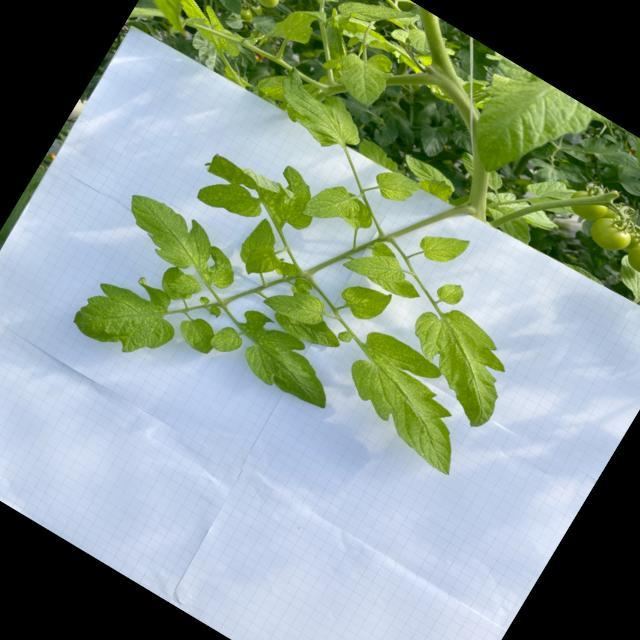Tomato target spot leaf: (446, 56, 614, 216), (326, 324, 494, 476), (384, 294, 530, 434), (205, 297, 352, 418), (108, 184, 252, 298), (196, 121, 335, 239), (68, 256, 194, 376), (261, 64, 377, 164), (324, 36, 401, 111), (167, 0, 255, 60), (192, 168, 268, 232), (269, 296, 346, 359), (260, 273, 334, 336), (341, 235, 412, 298), (300, 174, 366, 239), (334, 0, 419, 50), (267, 0, 331, 57), (334, 271, 395, 330), (413, 219, 472, 275), (234, 214, 286, 274), (365, 261, 424, 308), (369, 162, 422, 212), (608, 239, 640, 320), (172, 310, 224, 358), (238, 238, 286, 287), (254, 66, 296, 106), (166, 266, 206, 304), (414, 169, 456, 205), (432, 276, 468, 310), (368, 238, 399, 266)
